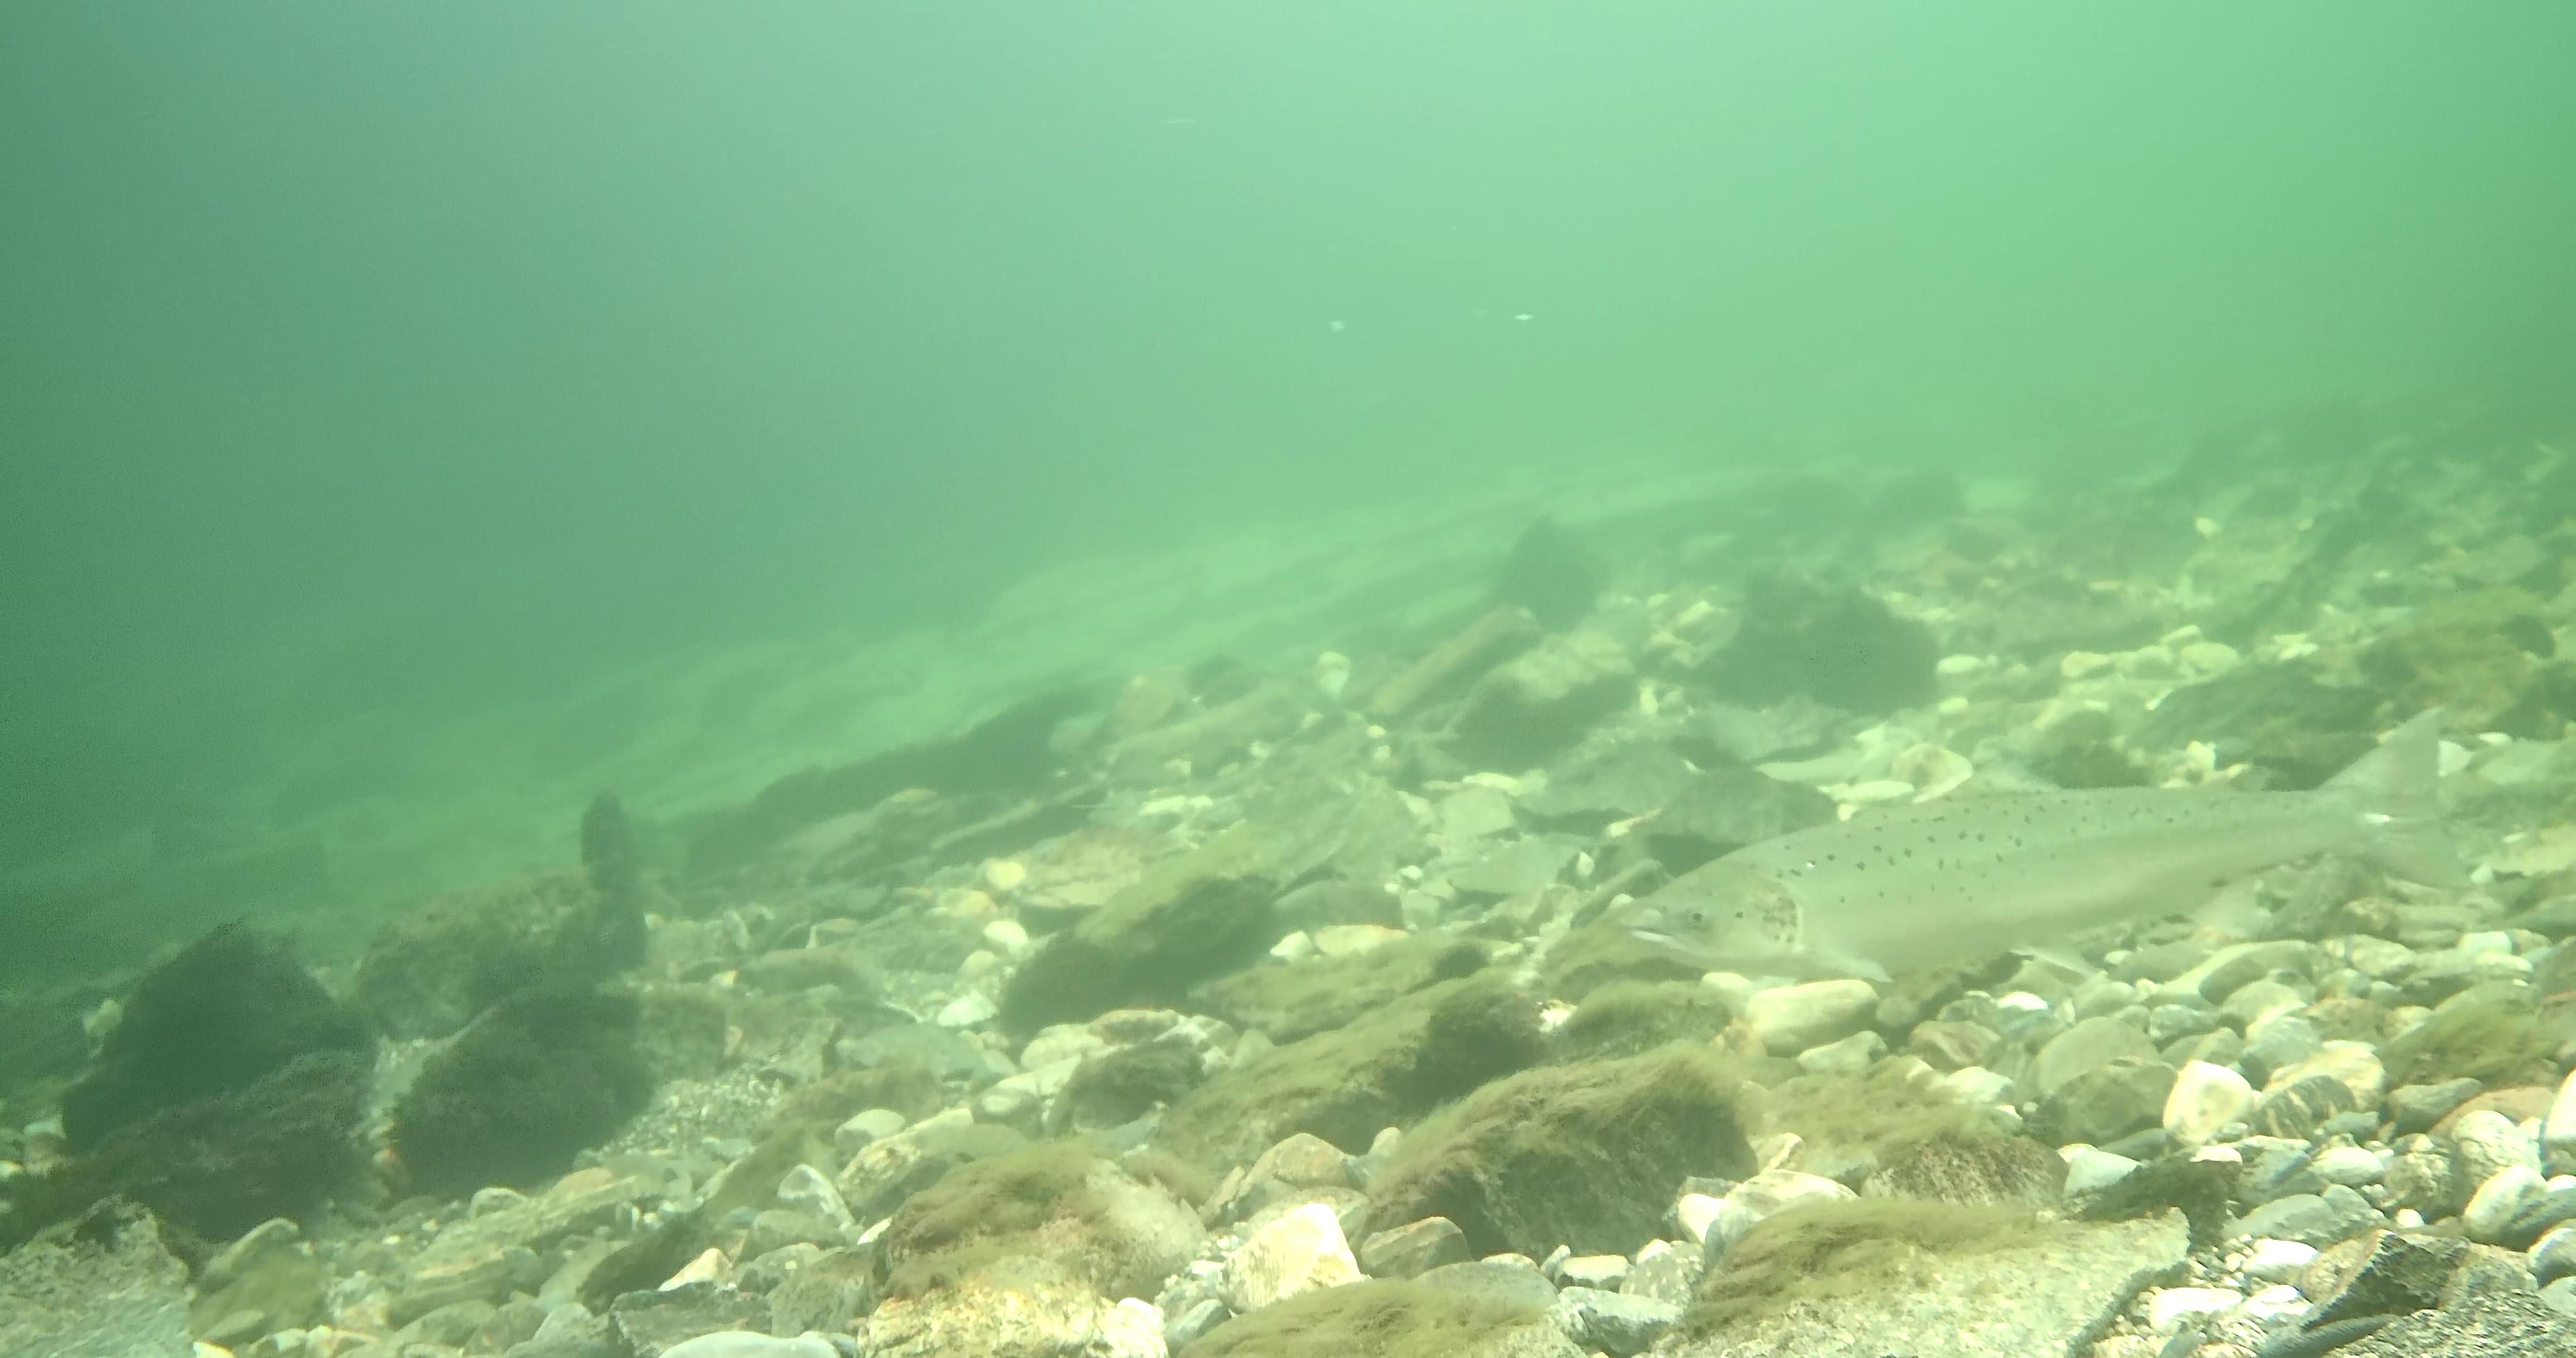salmon: (1615, 709, 2477, 988)
